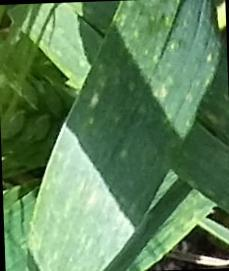Wheat: (29, 78, 210, 271), (11, 2, 119, 91), (121, 3, 217, 74)
